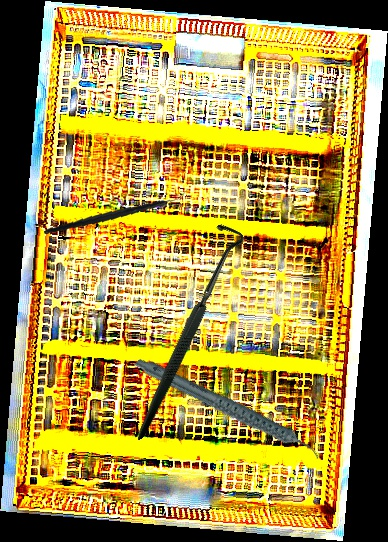Chopper: (44, 173, 189, 249)
Handpiece: (133, 324, 322, 496)
Hook Surgical: (64, 217, 304, 441)
